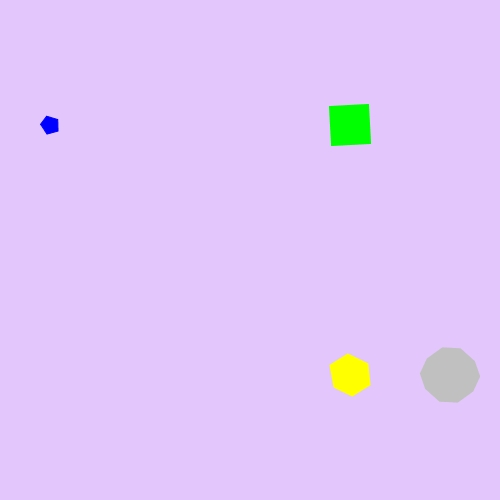decagon: (417, 345, 484, 406)
hexagon: (324, 353, 377, 397)
pentagon: (36, 111, 64, 139)
quadrilateral: (319, 94, 381, 156)
